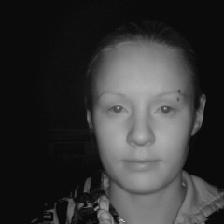normal: (65, 19, 215, 195)
